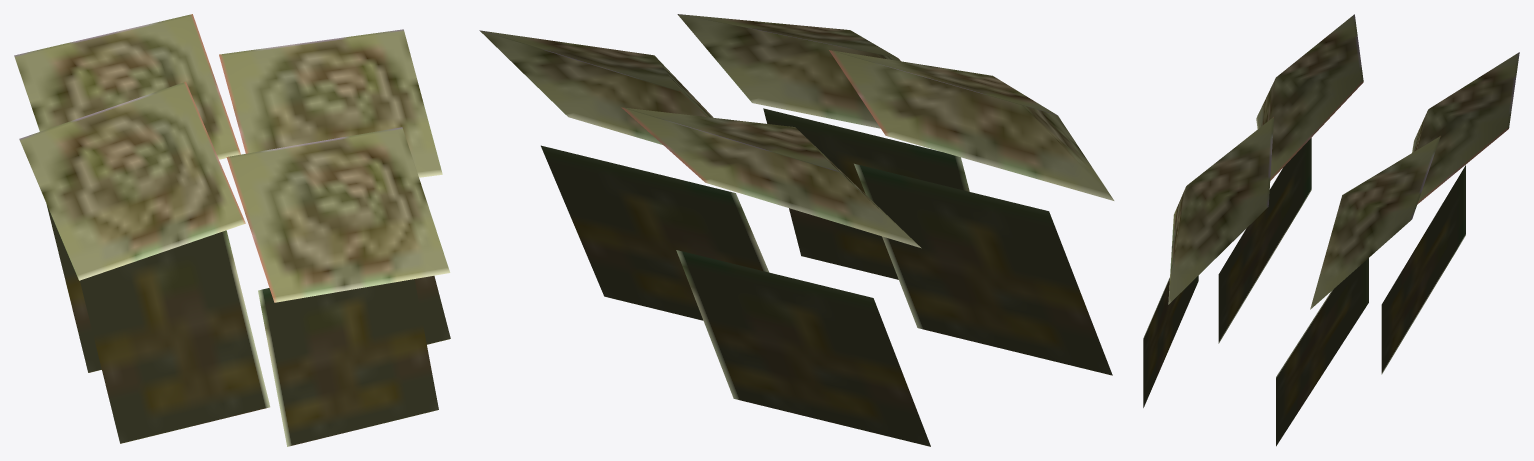
The model's file is flw_carna_x.dae.
3 renders of one model, left to right at view 1: azimuth 30°, elevation 25°; view 2: azimuth 150°, elevation 25°; view 3: azimuth 270°, elevation 25°, orthographic. The views are drawn at different scales.
Parts seen in each view (by area): view 1: flw_carna_x; view 2: flw_carna_x; view 3: flw_carna_x.
Part boxes in pixels (x1,y1,x2,y2): flw_carna_x: (14,14,450,446); flw_carna_x: (479,14,1114,446); flw_carna_x: (1143,14,1519,446).
Size of the model in its own units: 29.52 by 18.83 by 24.41.
1 material, 1 textured.
